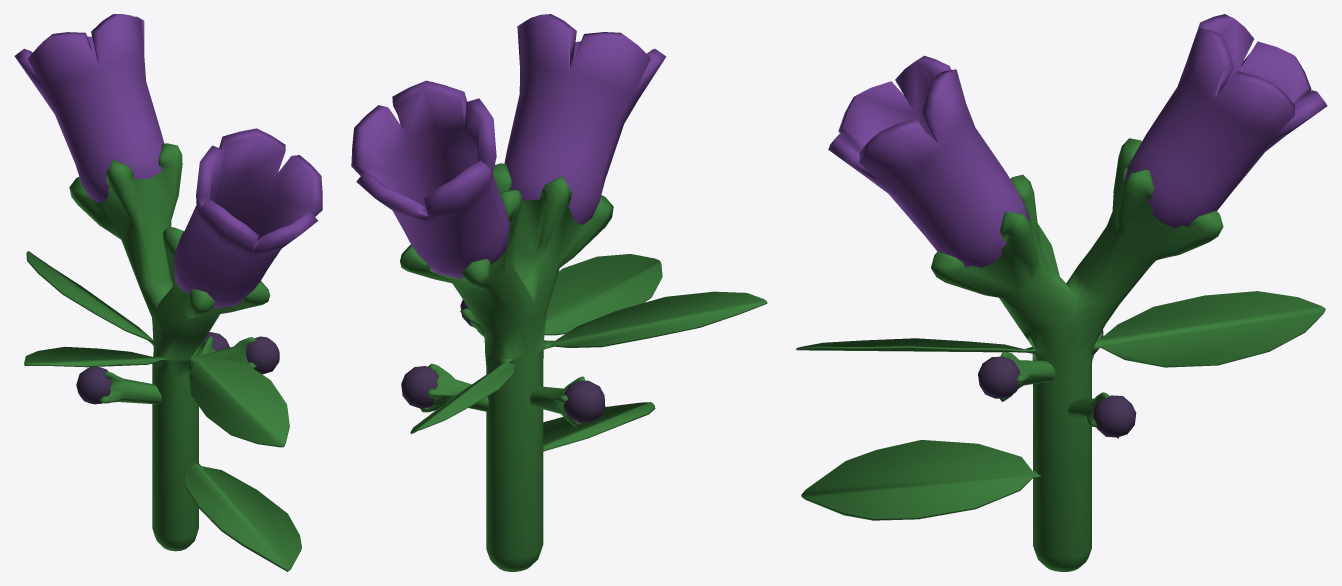
Rendered from Belladona.fbx.
3 renders of one model, left to right at view 1: azimuth 30°, elevation 25°; view 2: azimuth 150°, elevation 25°; view 3: azimuth 270°, elevation 25°, orthographic. The views are drawn at different scales.
Parts seen in each view (by area): view 1: Flores; view 2: Flores; view 3: Flores.
Boxes of the visible parts, x1,y1,x2,y2 form: Flores: [14, 14, 322, 571]; Flores: [351, 14, 767, 571]; Flores: [796, 14, 1327, 571].
Bounding box in the file's own units: 810 × 1402 × 1259.
